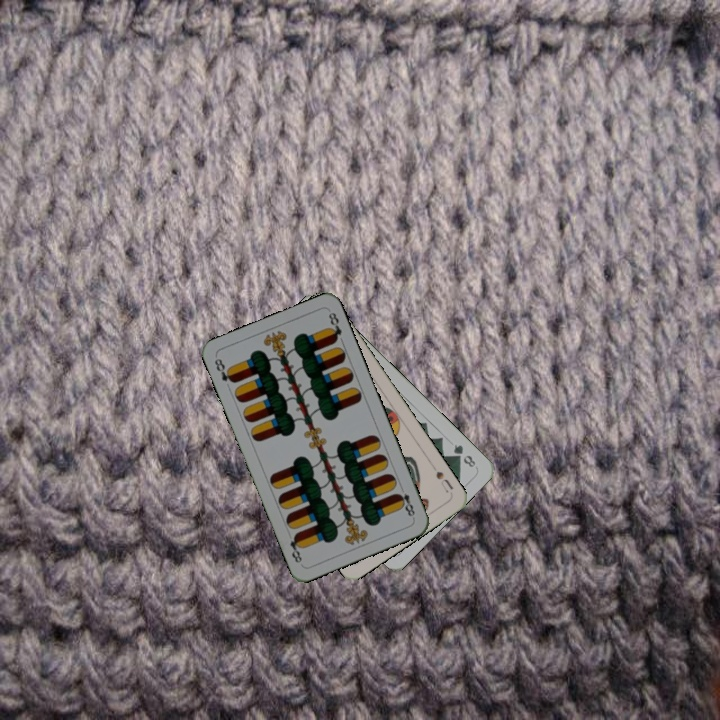E8: (393, 482, 417, 521), (210, 354, 238, 386)
G8: (449, 440, 478, 470)
SU: (432, 467, 456, 495)
